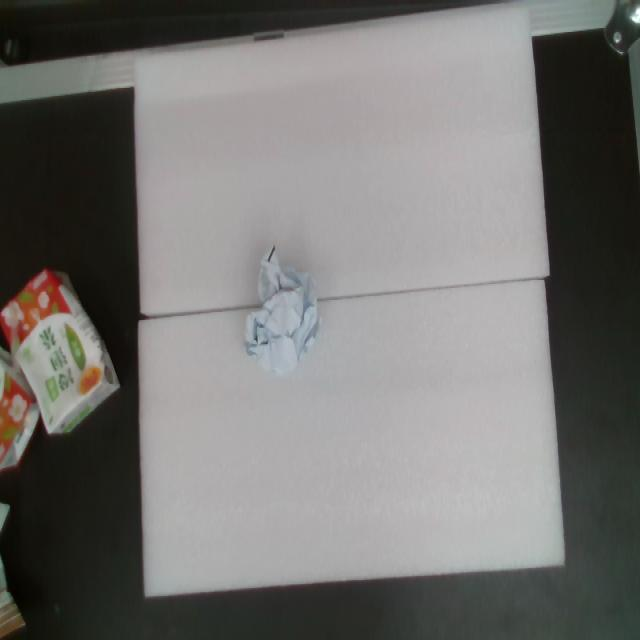paper: (209, 224, 349, 403)
